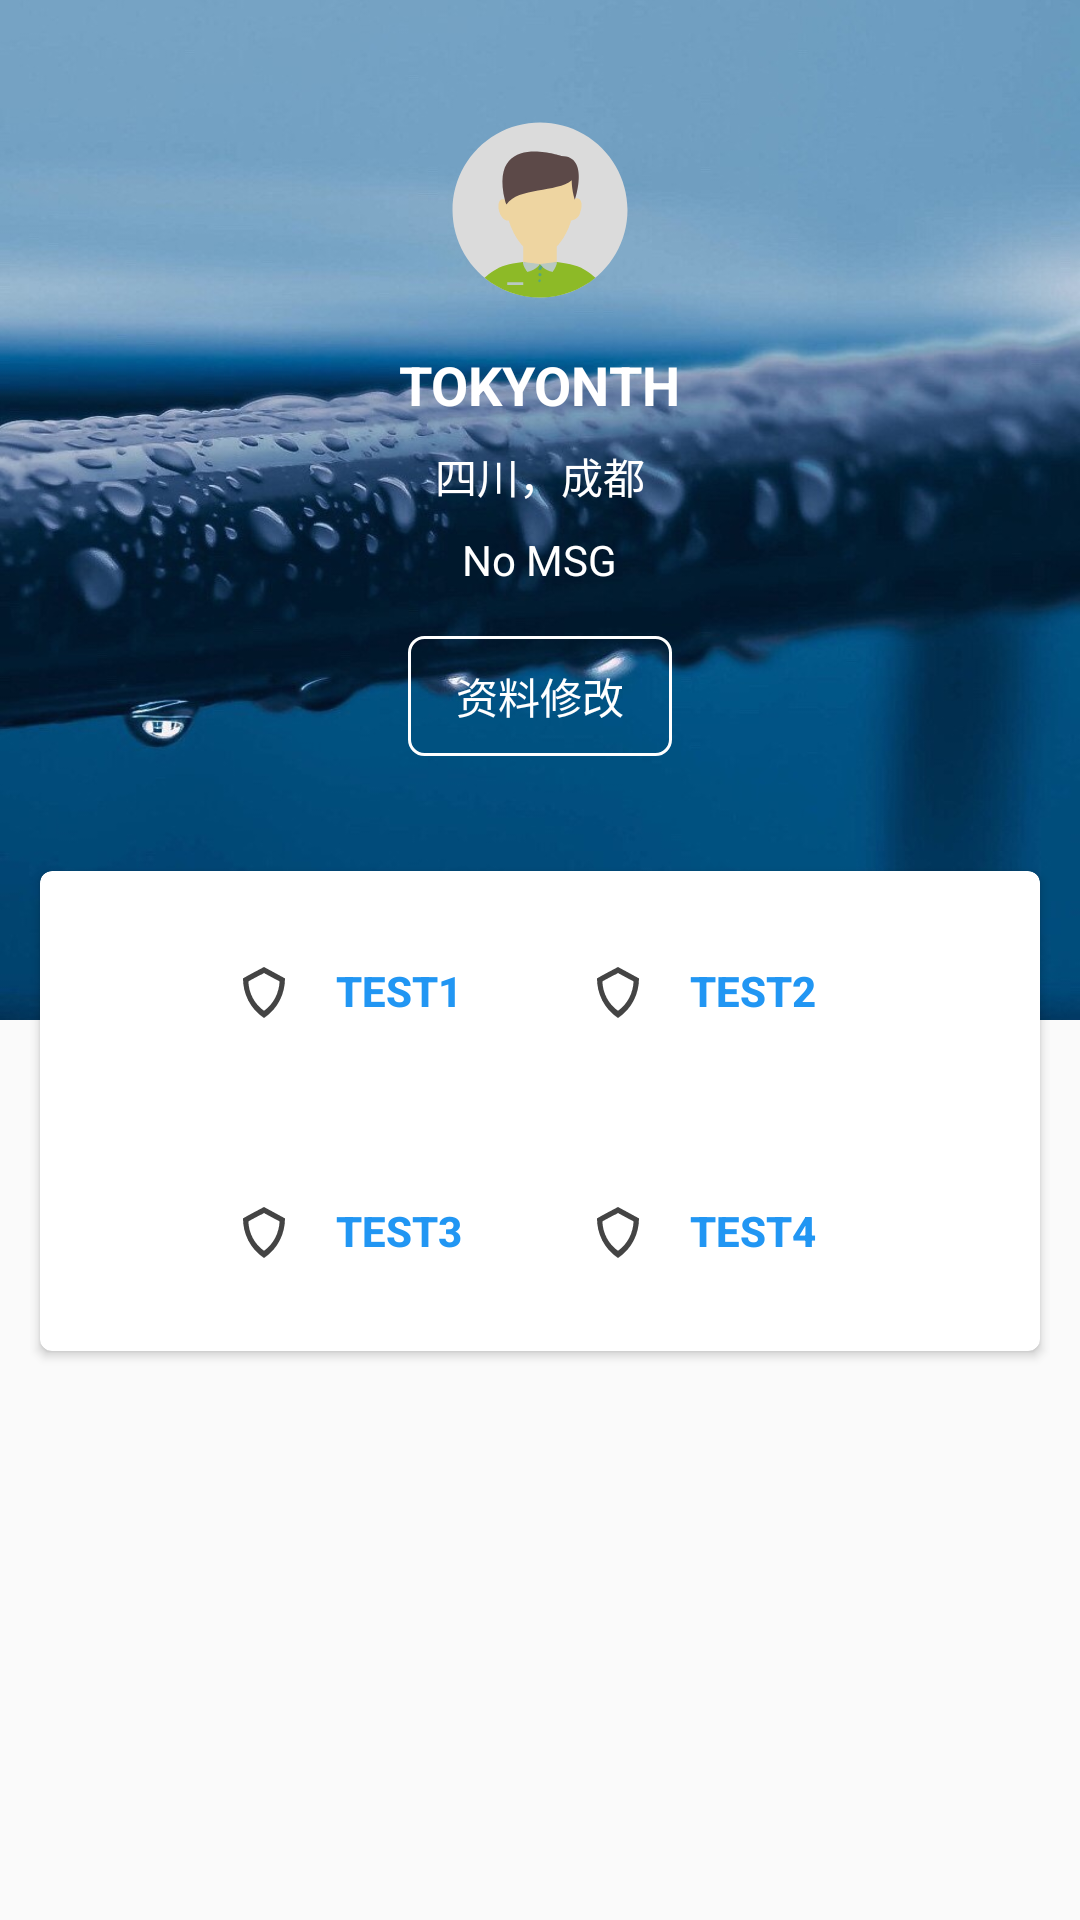

Icon click points for this 1080w x 1920h phone screenshot, format point (x, y):
head portrait: point (540, 210)
shield: point (264, 992), point (618, 992), point (264, 1232), point (618, 1232)
